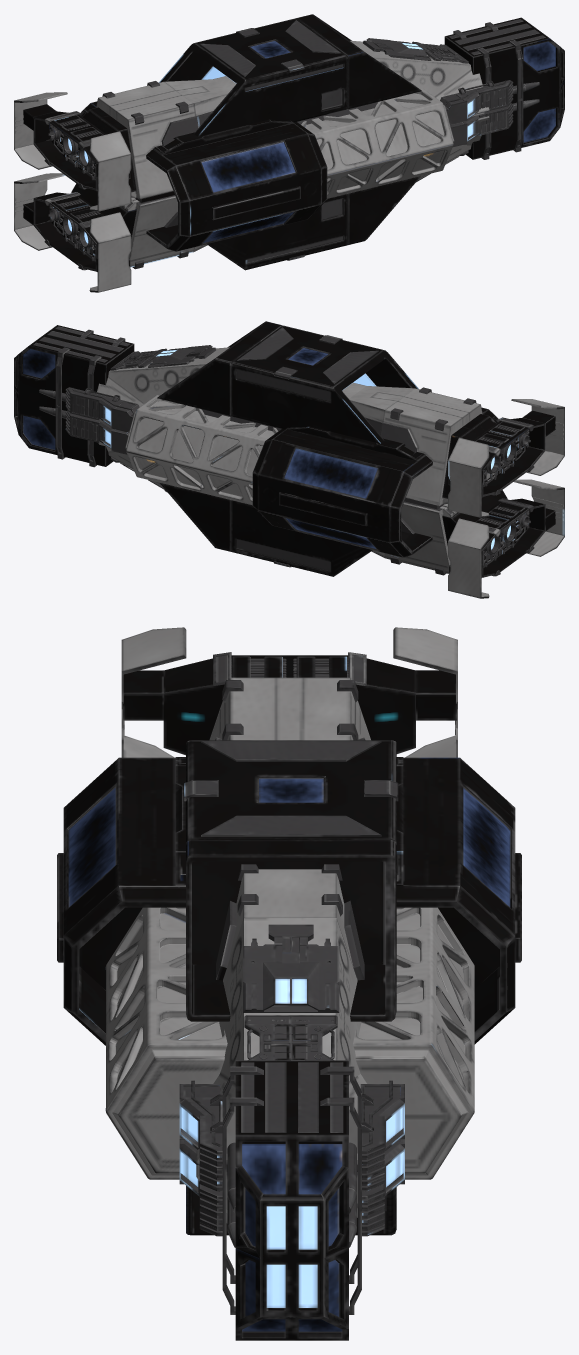
Rendered from RenderCrate-Spaceship_2.glb.
3 renders of one model, top to bottom at view 1: azimuth 30°, elevation 25°; view 2: azimuth 150°, elevation 25°; view 3: azimuth 270°, elevation 25°, orthographic. The views are drawn at different scales.
Parts seen in each view (by area): view 1: Space_Ship_02; view 2: Space_Ship_02; view 3: Space_Ship_02.
Boxes of the visible parts, x1=… form: Space_Ship_02: x1=14, y1=14, x2=564, y2=292; Space_Ship_02: x1=14, y1=321, x2=564, y2=598; Space_Ship_02: x1=57, y1=627, x2=521, y2=1340.
Bounding box in the file's own units: 56.16 × 20.62 × 22.58.
1 material, 1 textured.
